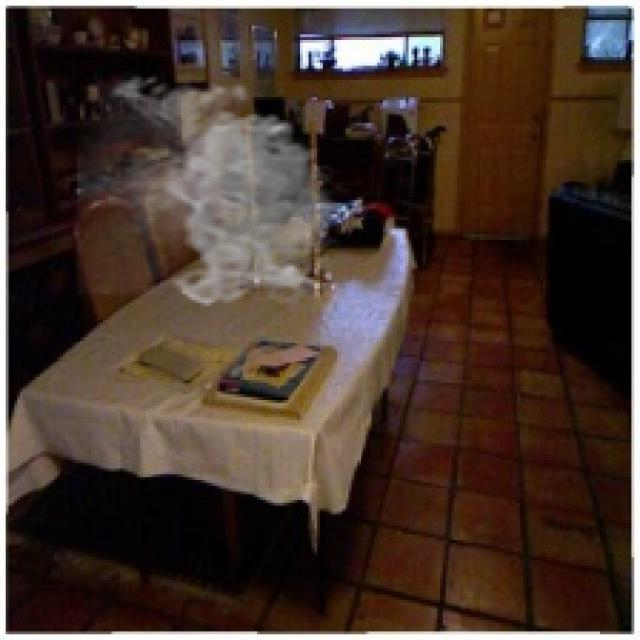smoke: (77, 68, 349, 312)
